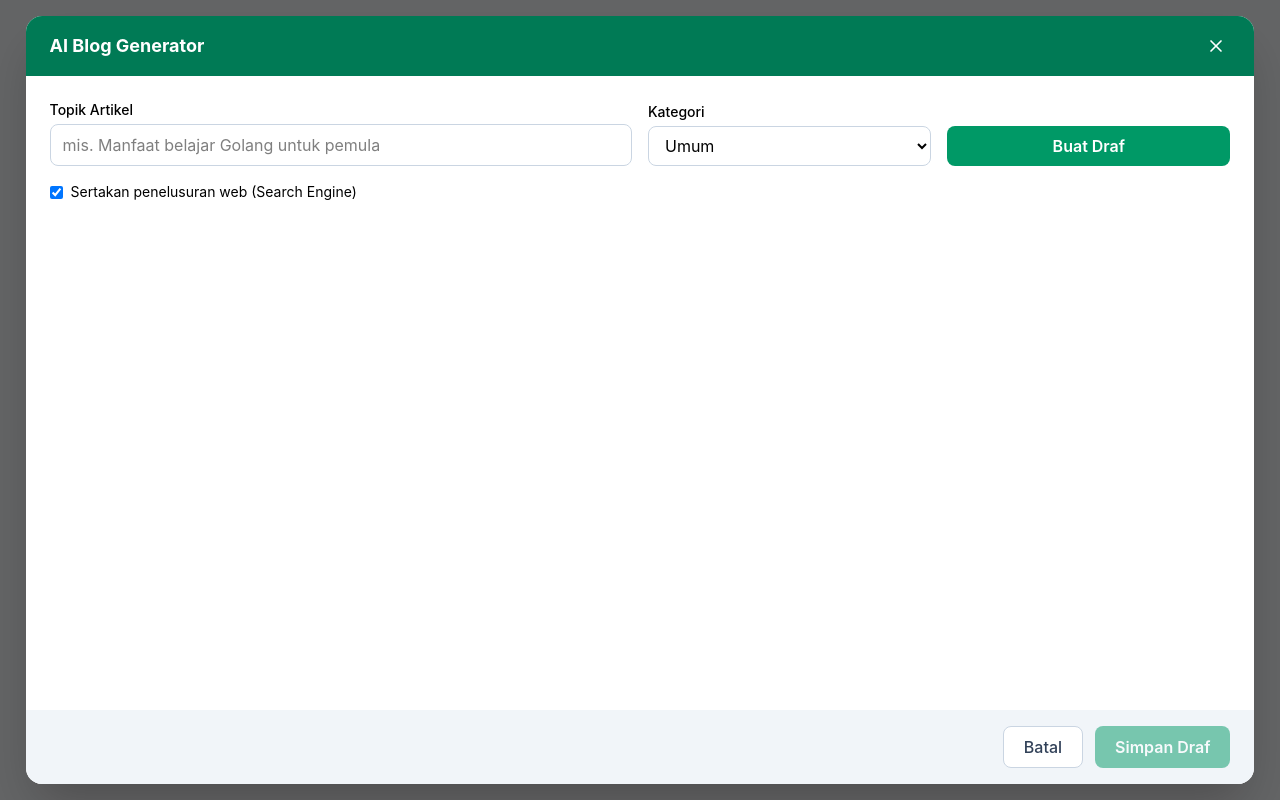
Test: AiPostGeneratorModal › draf tanpa sumber (array kosong) tidak menampilkan daftar sumber
This screenshot has width=1280, height=800.
Type "Golang" into the field labelled "Topik Artikel" at (341, 145), box [50,124,632,166]
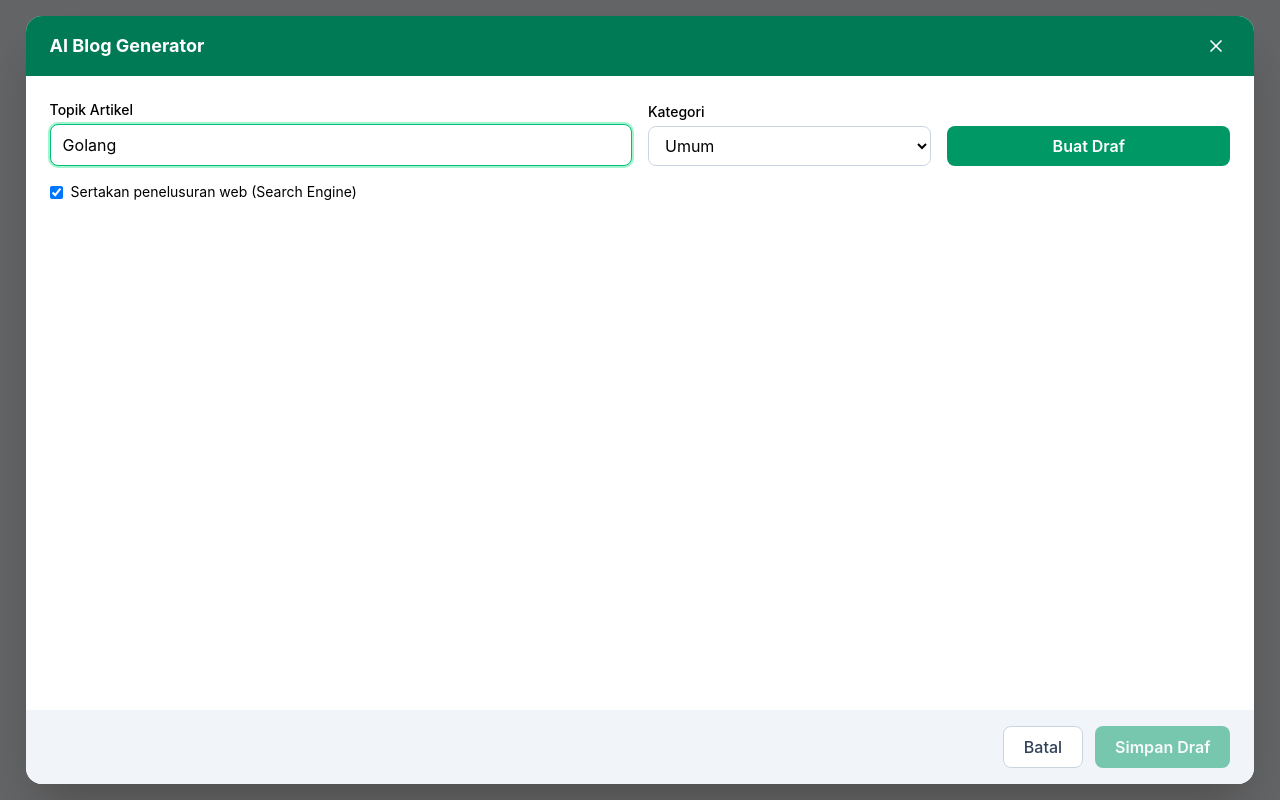
Click the button "Buat Draf" at (1089, 146), box [947,126,1230,166]
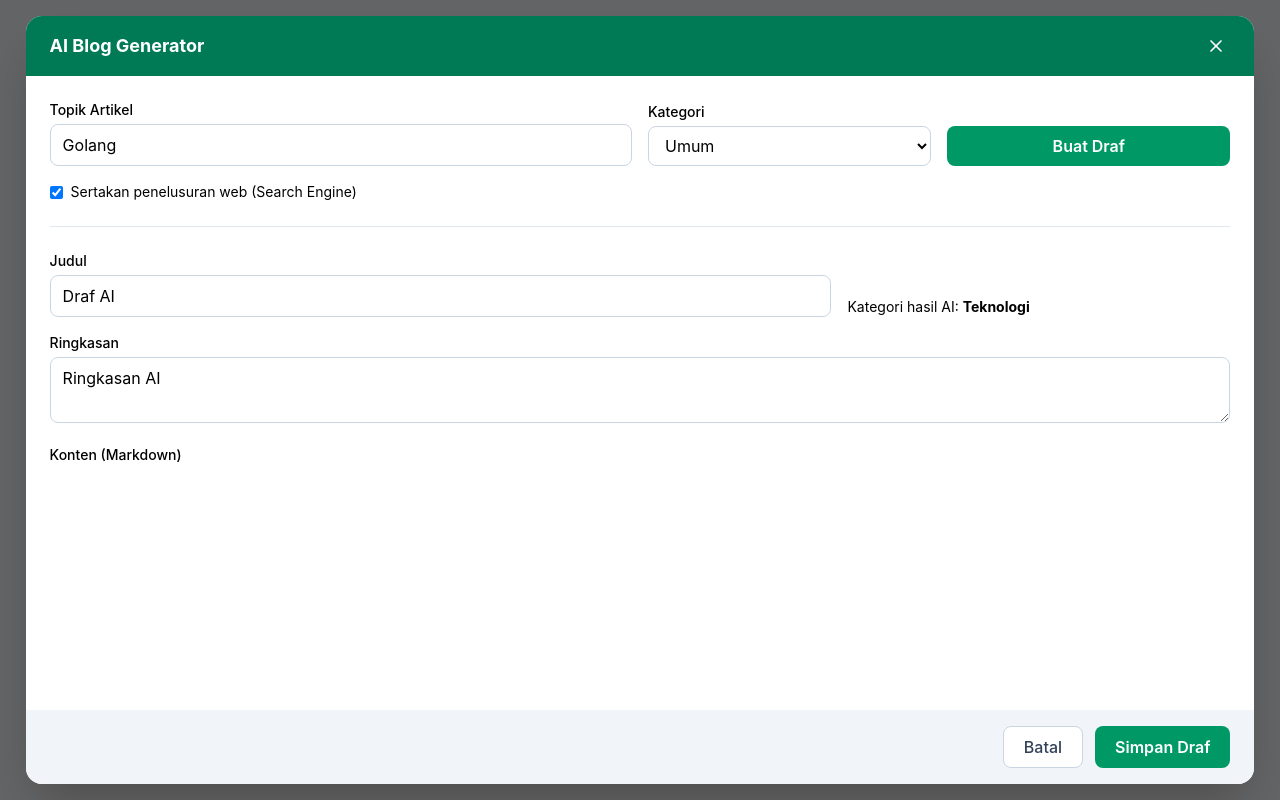
Expected: the field labelled "Judul" is shown, [50,275,832,317]
